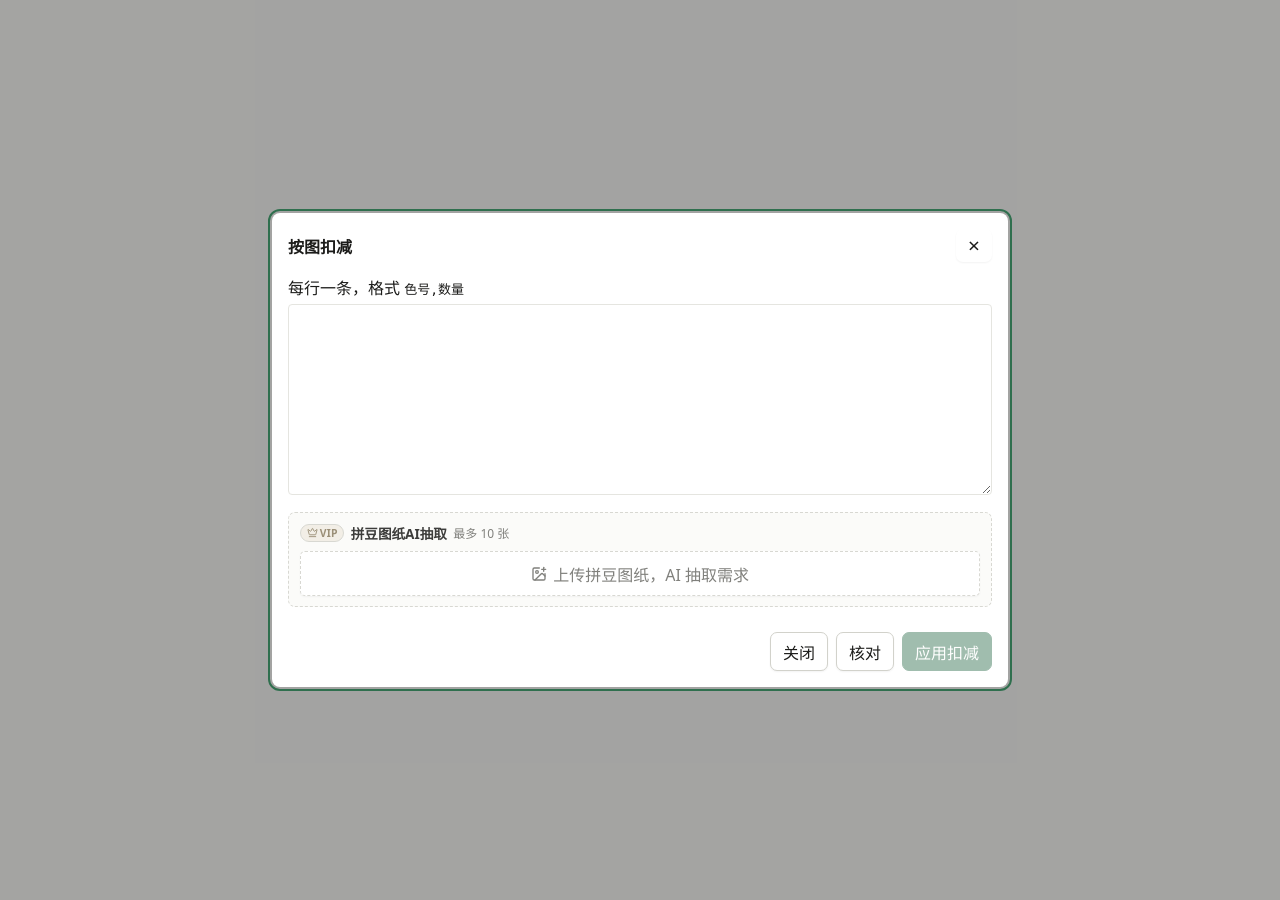
Test: CheckDialog › drops the row-number column
The image size is (1280, 900).
Type "A1,60" into the text box named "需求清单". click: (640, 399)
box: x1=288 y1=304 x2=992 y2=495
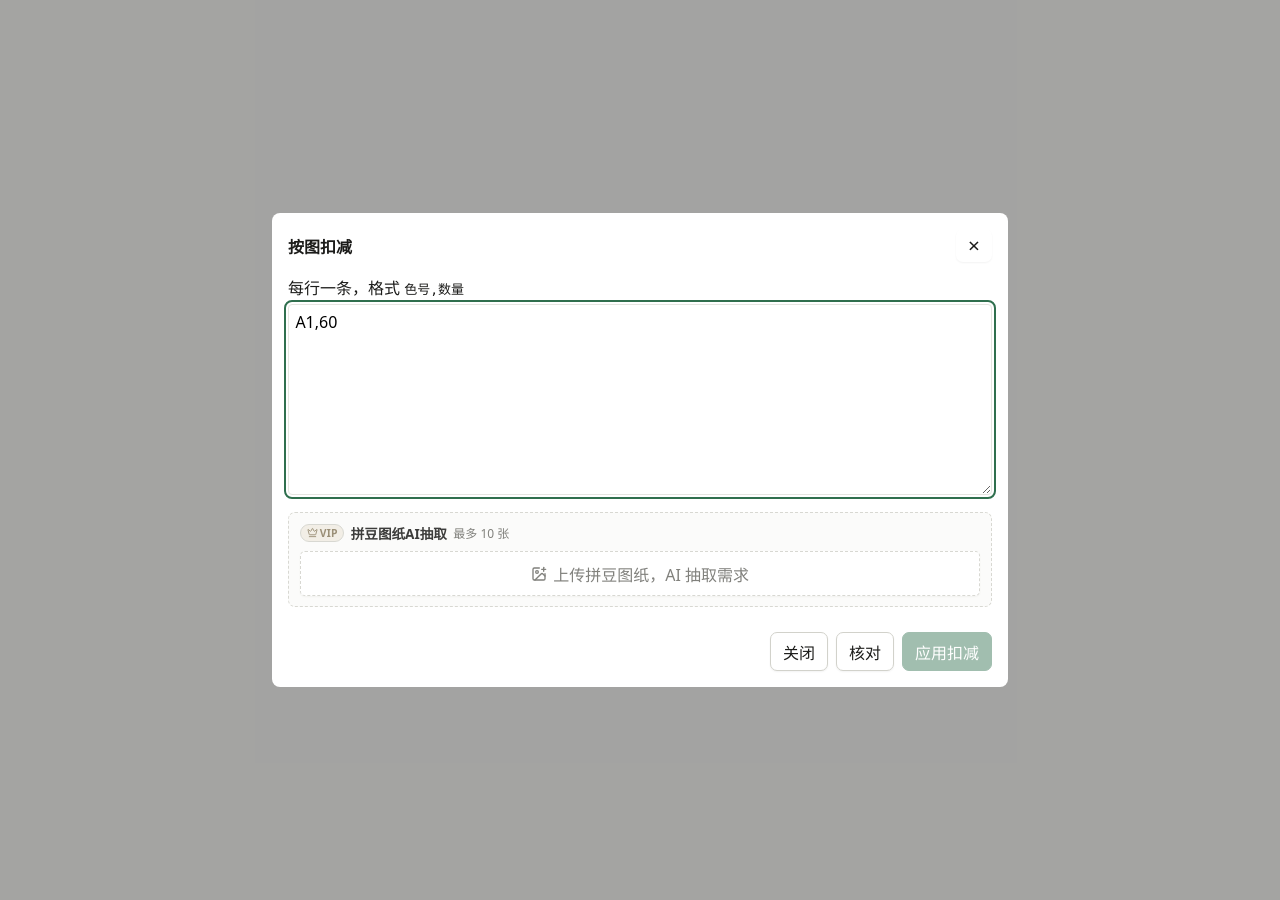
Click the button "核对". click: (865, 652)
box: x1=836 y1=632 x2=894 y2=671
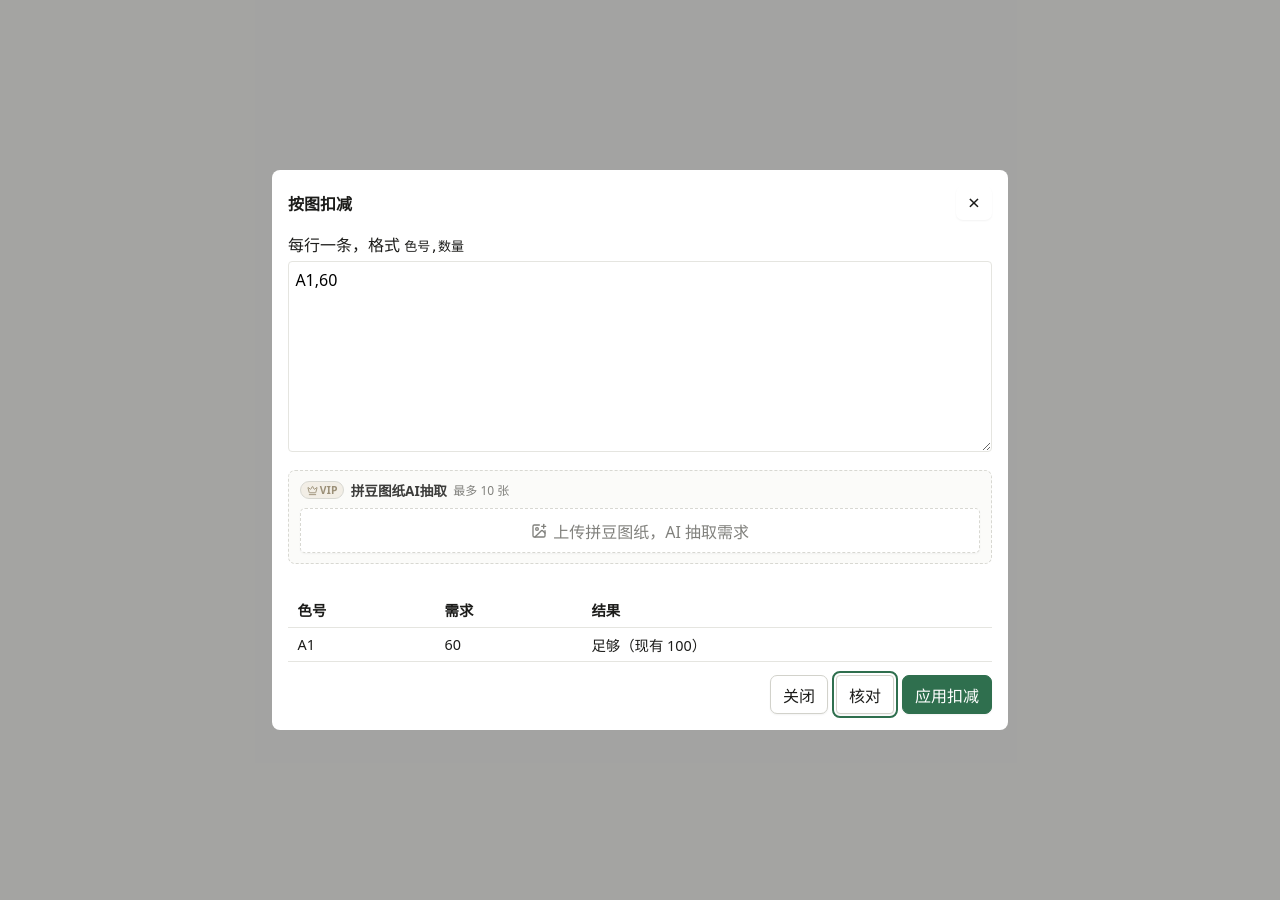
Check: the column headings read "色号", "需求", "结果", in this order, box x1=288 y1=593 x2=435 y2=627; x1=435 y1=593 x2=582 y2=627; x1=582 y1=593 x2=992 y2=627
